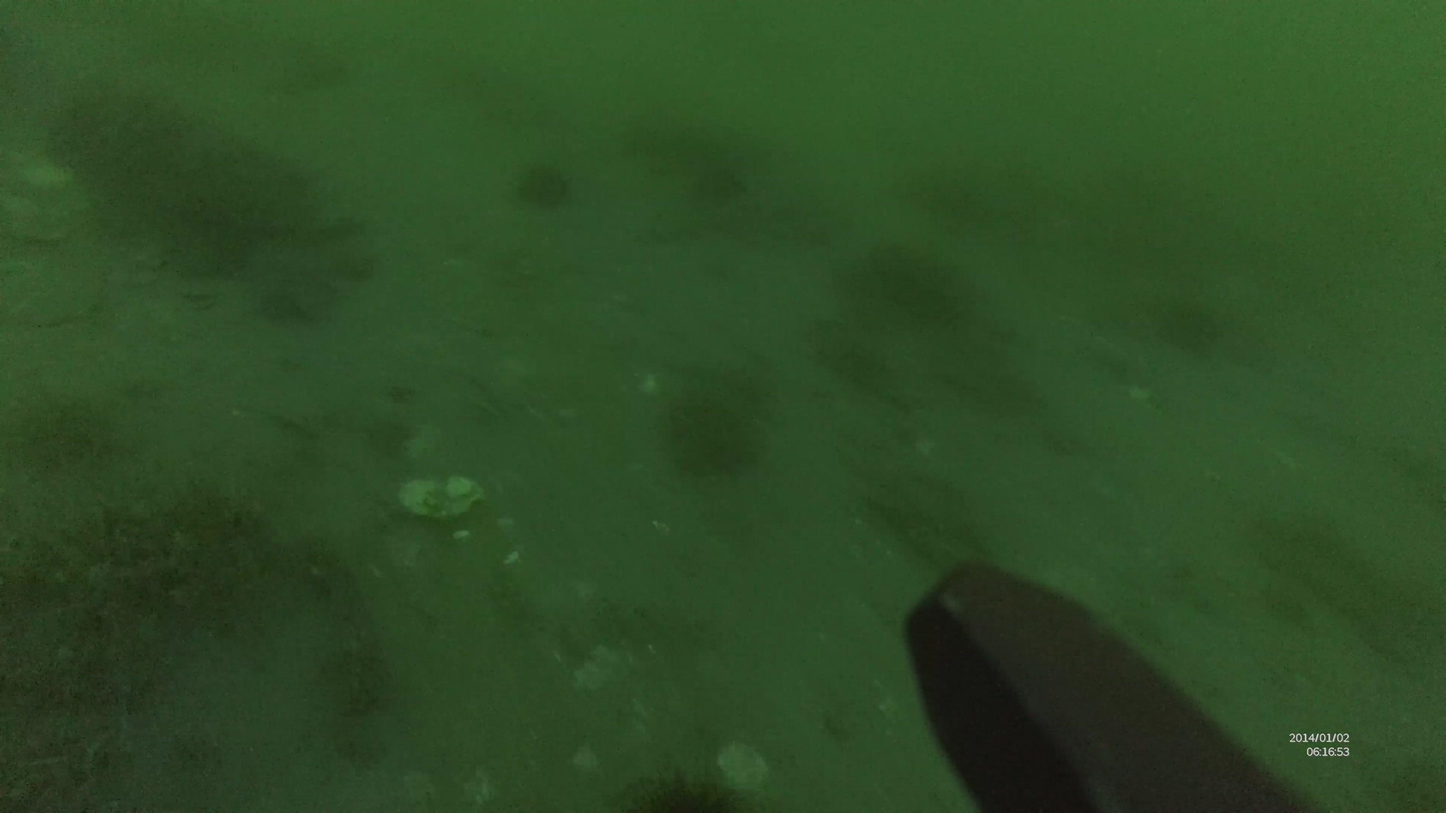scallop: (396, 477, 489, 525)
